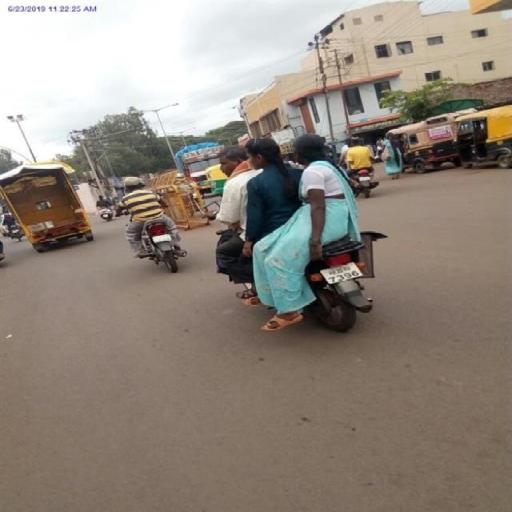tripple riding: (214, 131, 371, 234)
